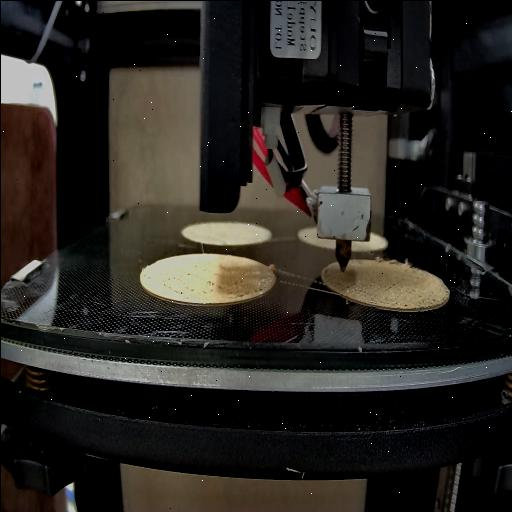under_extrusion: (154, 274, 264, 298), (380, 285, 444, 309), (338, 278, 352, 296)
